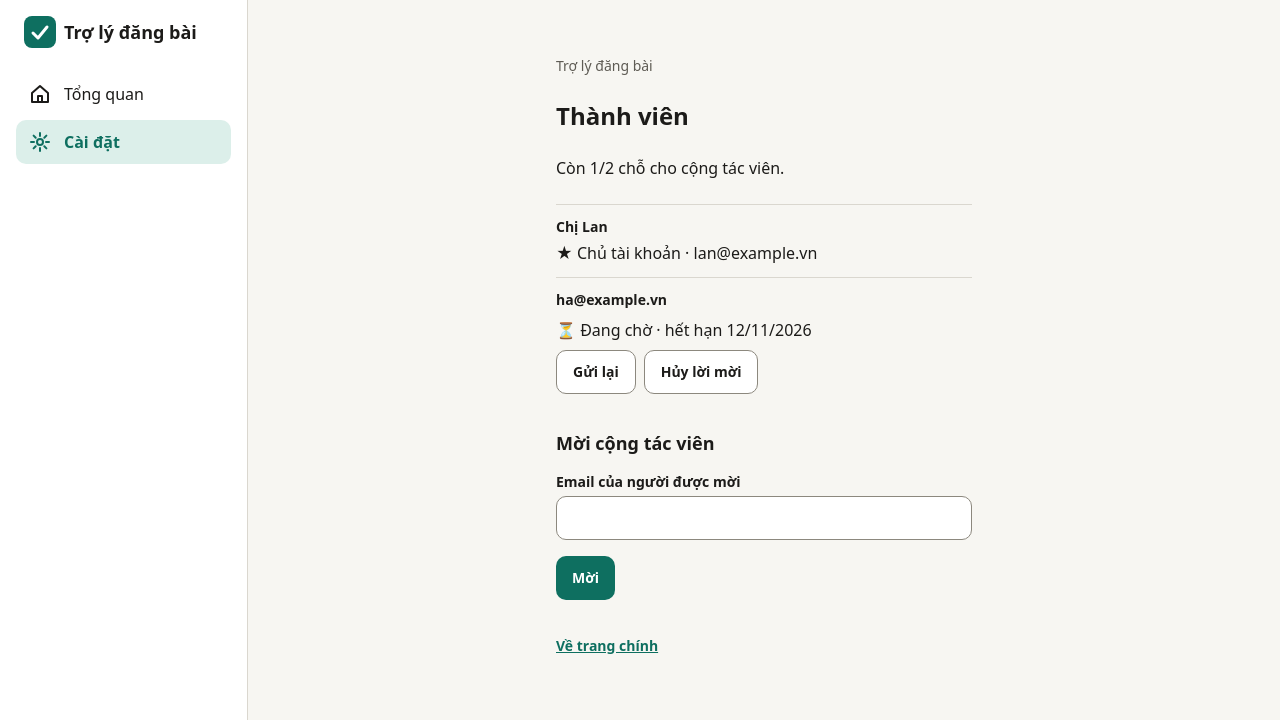
Test: MembersPage › mời, gửi lại, hủy gọi đúng API; lỗi mời chính mình hiện cạnh ô
expect the text "Còn 1/2 chỗ cho cộng tác viên." is shown: met, box [556, 157, 784, 179]
Type "lan@example.vn" into the field labelled "Email của người được mời".
click(764, 518); type("lan@example.vn")  # box [556, 496, 972, 540]
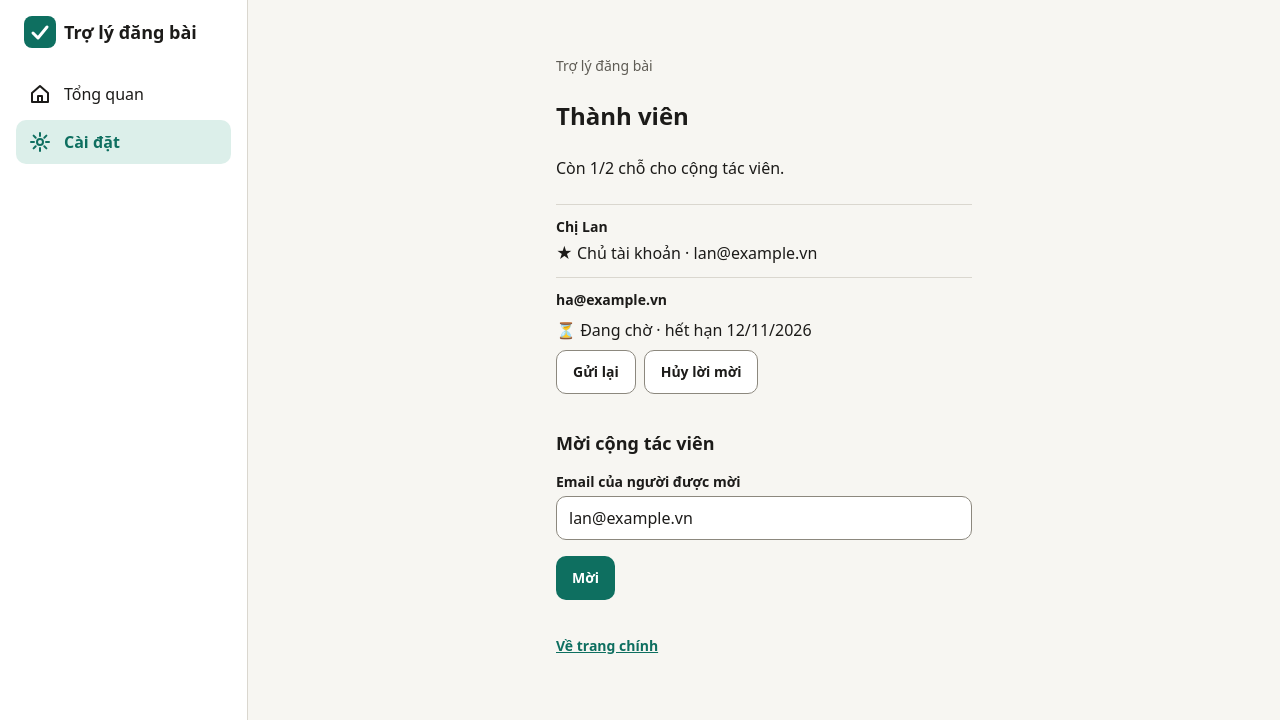
Click the button "Mời".
click(586, 578)  # box [556, 556, 615, 600]
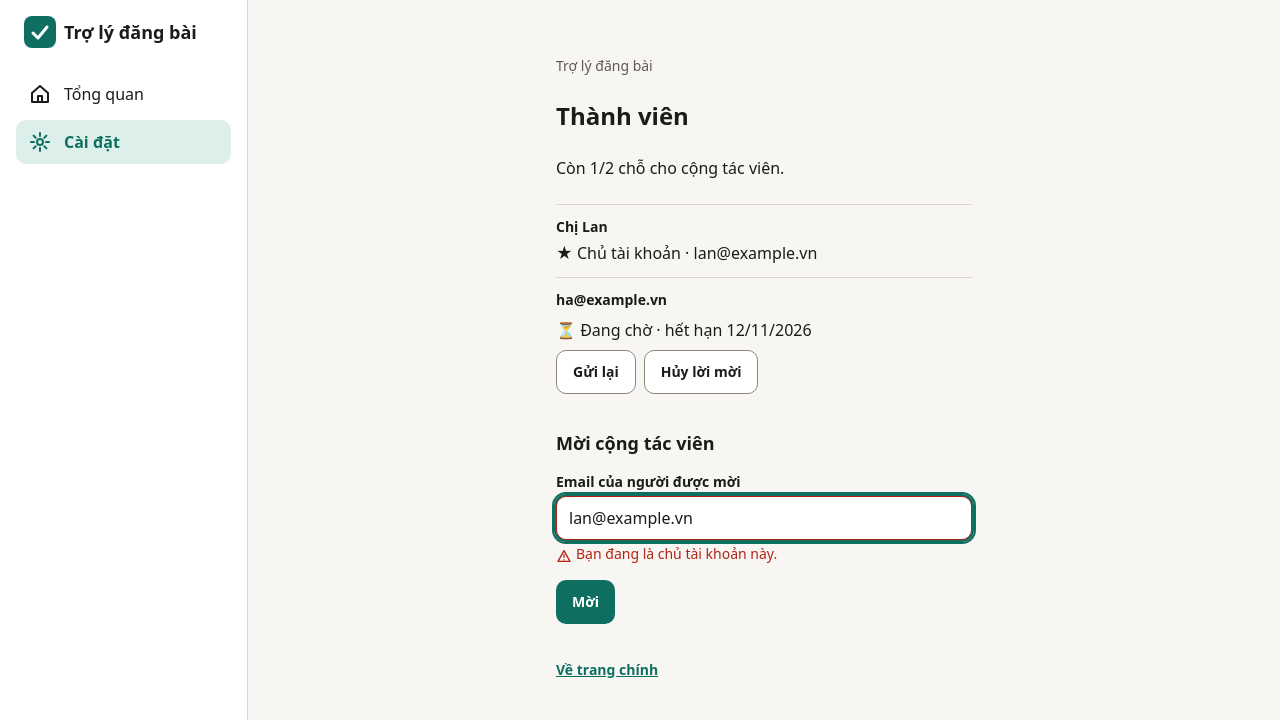
expect the text "Bạn đang là chủ tài khoản này." is shown: met, box [576, 544, 777, 564]
Replace the text in the field labelled "Email của người được mời" with "tu@example.vn" at coordinates (764, 518), box [556, 496, 972, 540]
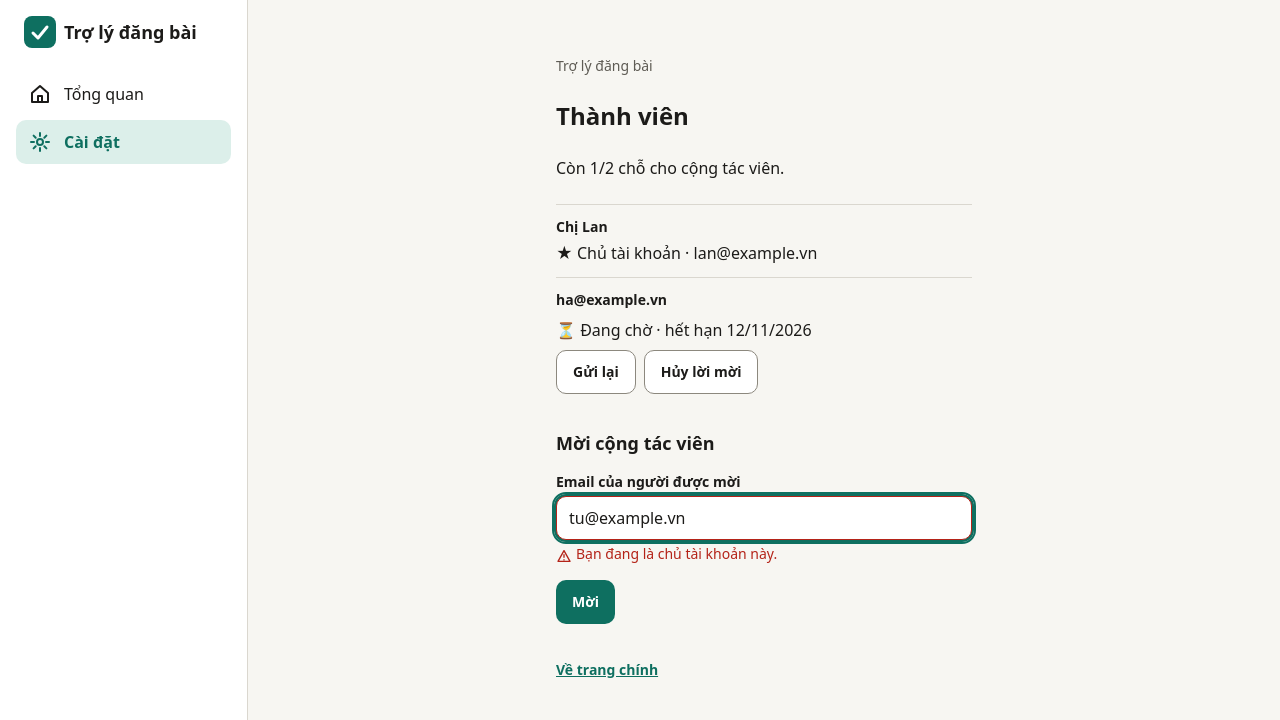
Click the button "Mời".
click(586, 602)  # box [556, 580, 615, 624]
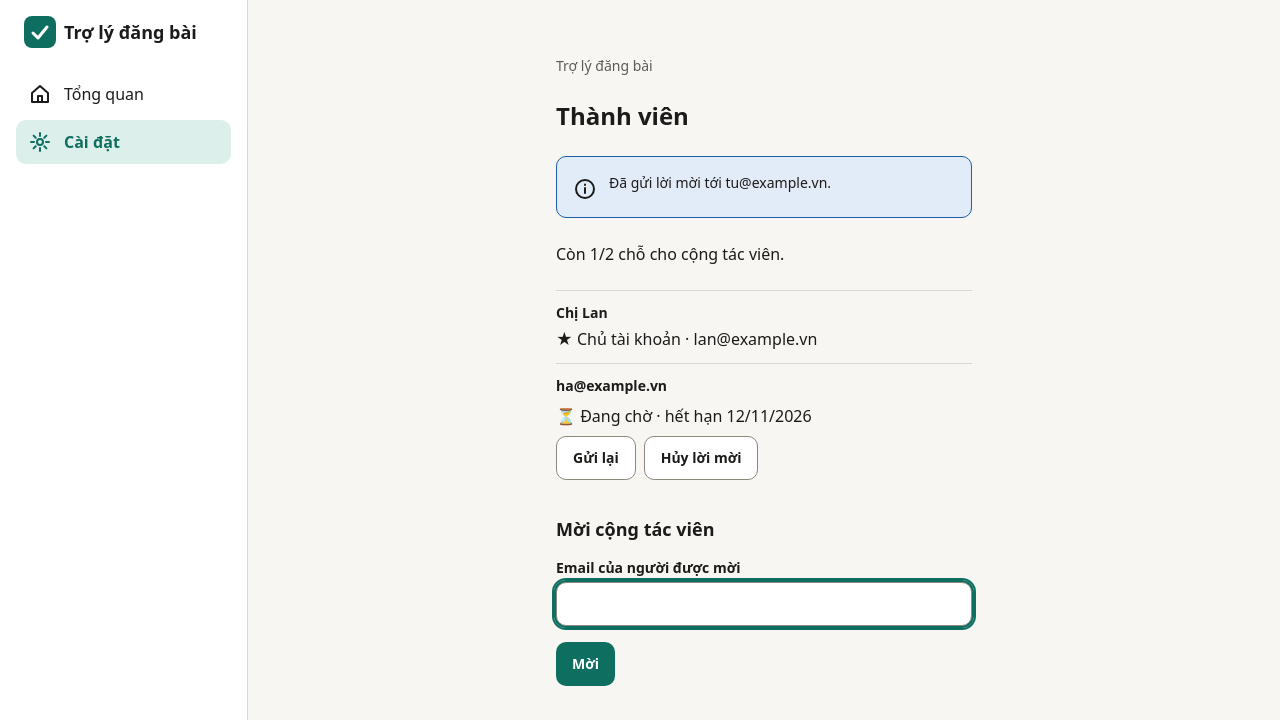
expect the text "Đã gửi lời mời tới tu@example.vn." is shown: met, box [609, 173, 831, 192]
Click the button "Gửi lại".
click(596, 458)  # box [556, 436, 636, 480]
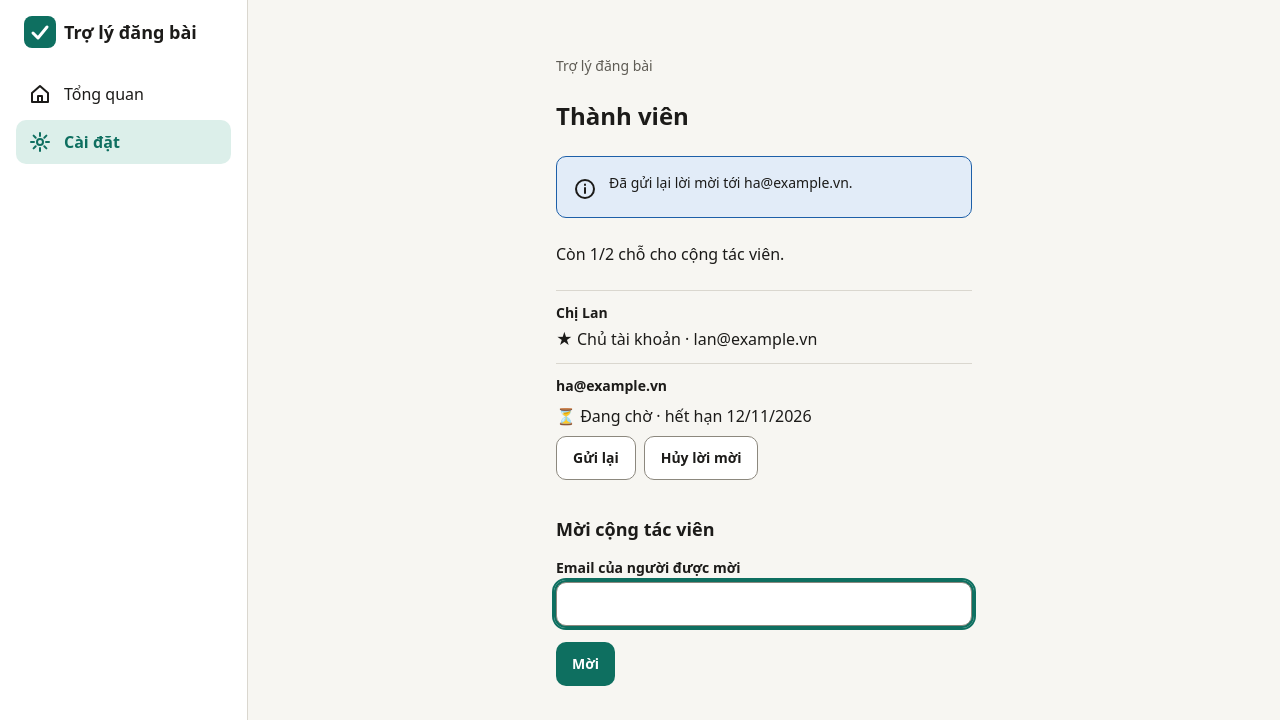
expect the text "Đã gửi lại lời mời tới ha@example.vn." is shown: met, box [609, 173, 853, 192]
Click the button "Hủy lời mời".
click(701, 458)  # box [644, 436, 758, 480]
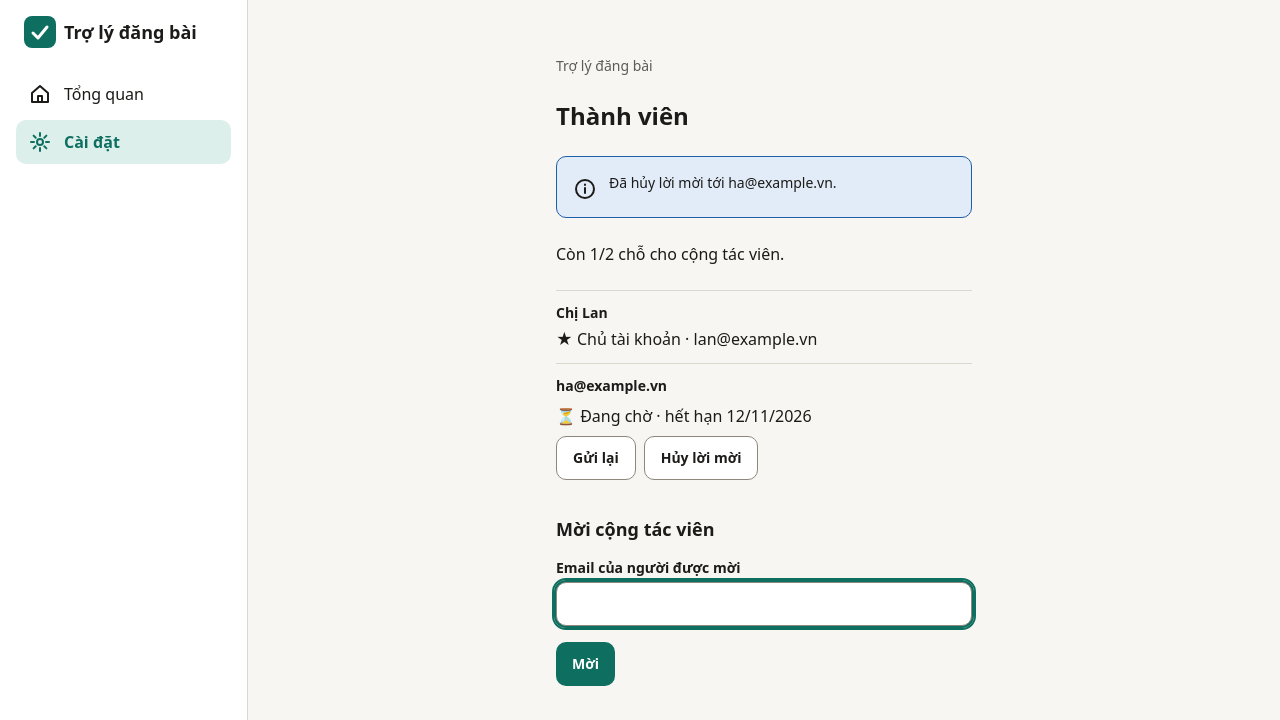
expect the text "Đã hủy lời mời tới ha@example.vn." is shown: met, box [609, 173, 837, 192]
